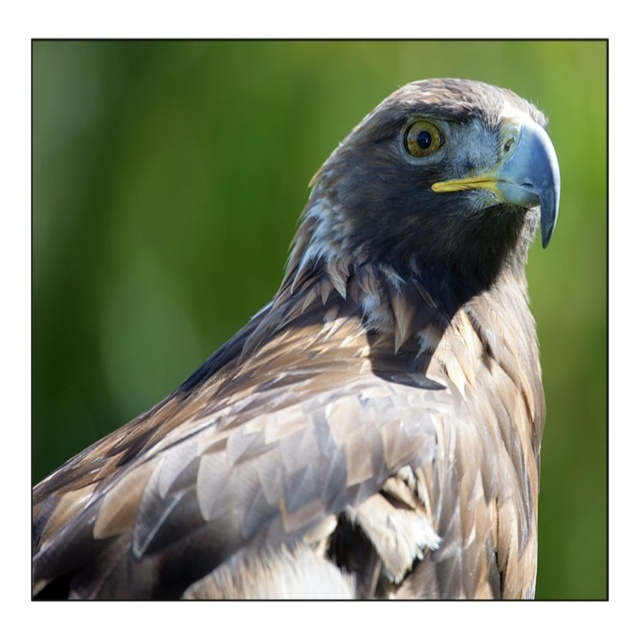Eagle: (34, 76, 564, 600)
